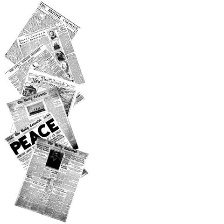news_paper: (11, 134, 89, 221), (2, 109, 88, 183), (4, 42, 88, 112), (3, 0, 81, 72), (8, 80, 82, 153), (8, 68, 81, 136), (16, 20, 89, 85)
